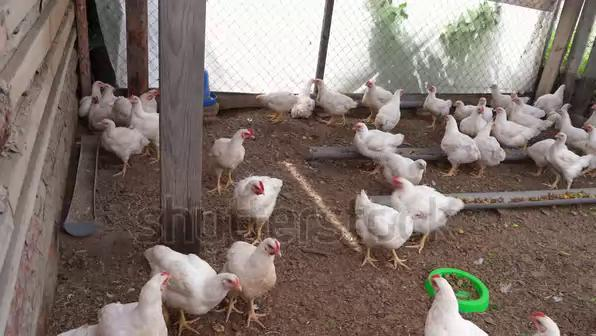Pollos: (101, 270, 170, 330), (422, 272, 484, 336), (176, 250, 240, 309), (354, 190, 420, 246), (350, 120, 403, 163), (441, 114, 481, 167), (236, 175, 284, 218), (99, 120, 147, 158), (213, 126, 255, 168), (316, 77, 356, 120), (234, 234, 283, 269), (552, 135, 584, 178), (492, 108, 533, 140), (377, 86, 407, 128), (255, 85, 295, 110), (389, 154, 425, 180), (536, 81, 568, 109), (129, 96, 157, 126), (295, 76, 315, 113), (422, 86, 449, 112), (96, 81, 117, 113), (486, 82, 514, 106), (363, 77, 384, 105), (458, 101, 478, 116)
